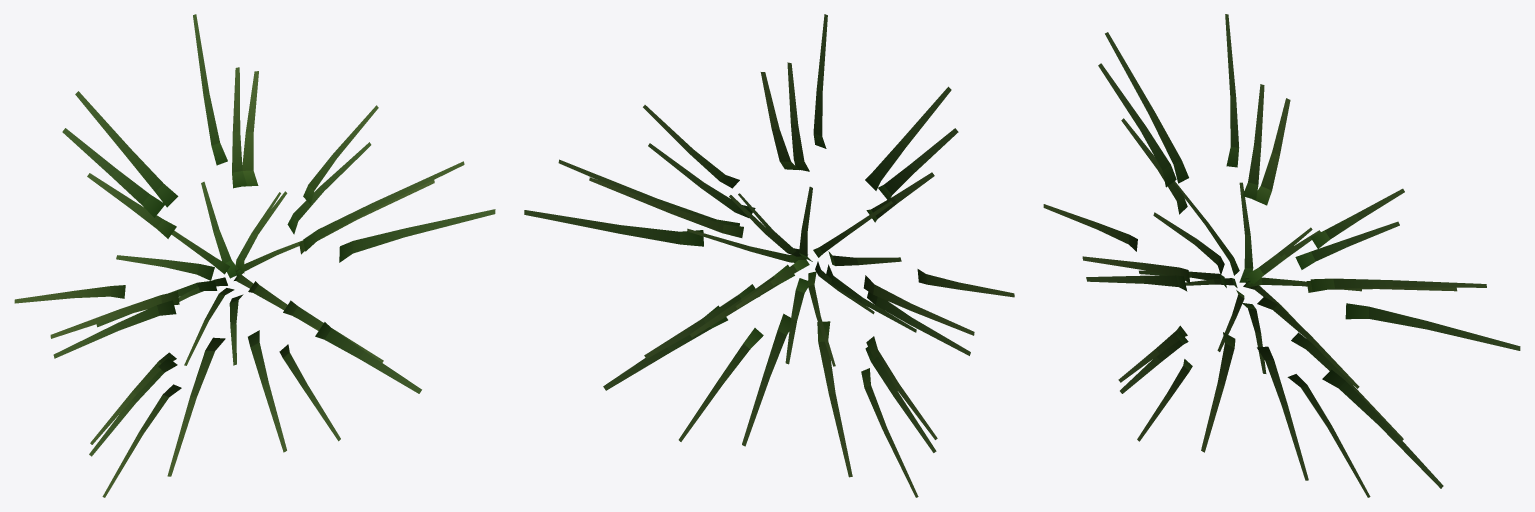
The model's file is Grass_Patch_Lawn.glb.
3 views of the same model, side by side, from view 1: azimuth 30°, elevation 25°; view 2: azimuth 150°, elevation 25°; view 3: azimuth 330°, elevation 25° (orthographic). The views are drawn at different scales.
Parts seen in each view (by area): view 1: Grass_Patch_Lawn; view 2: Grass_Patch_Lawn; view 3: Grass_Patch_Lawn.
Part boxes in pixels (box(x1,y1,x2,y2)): Grass_Patch_Lawn: box(14, 14, 495, 497); Grass_Patch_Lawn: box(524, 14, 1014, 497); Grass_Patch_Lawn: box(1043, 14, 1520, 497).
Size of the model in its own units: 1.48 by 1.35 by 0.0792.
